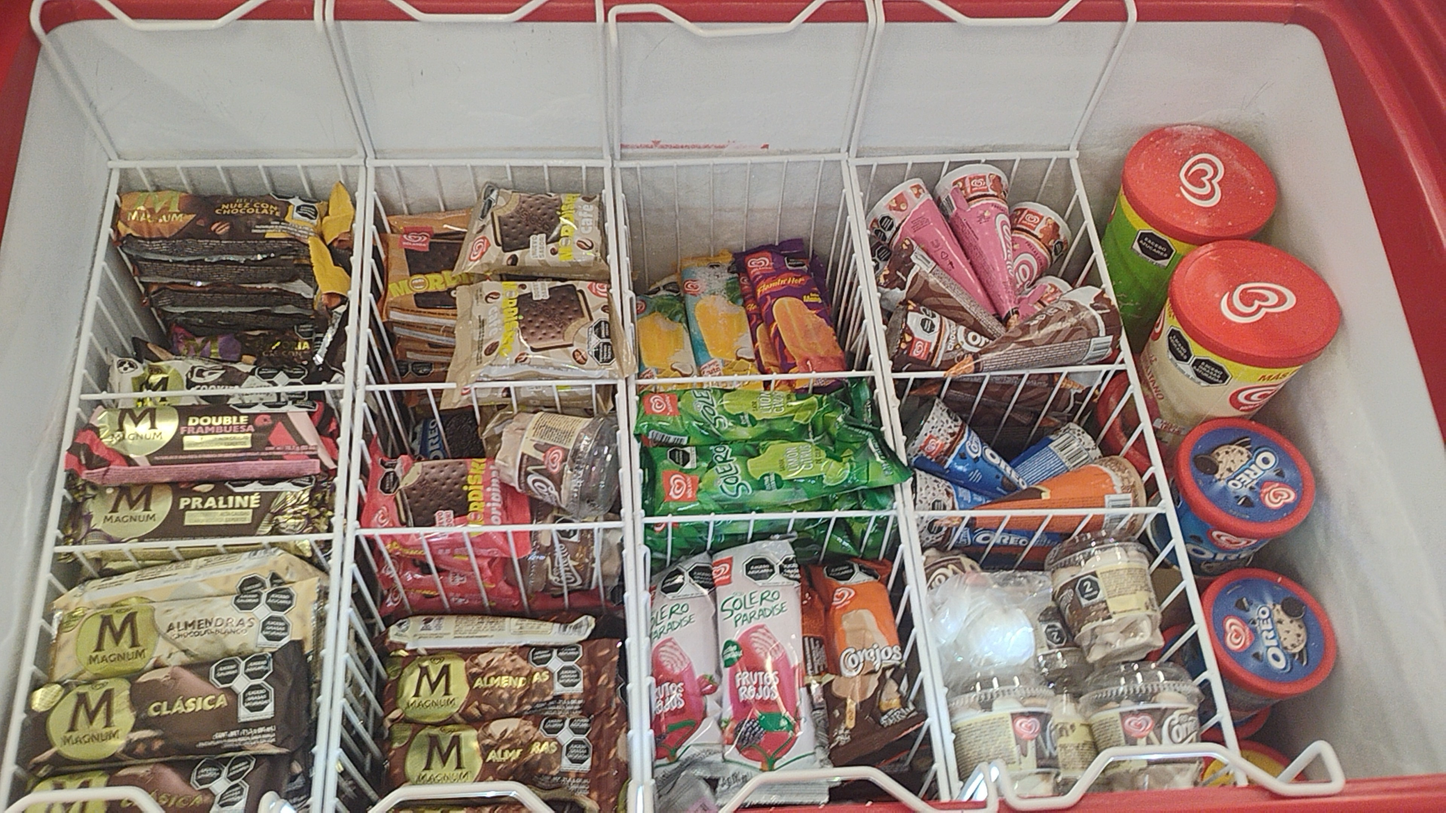rejilla: (0, 168, 120, 812), (1121, 331, 1241, 756), (310, 166, 365, 813), (324, 168, 374, 813), (849, 161, 907, 466), (894, 484, 950, 799), (841, 161, 894, 451), (619, 379, 642, 782), (631, 438, 651, 781), (1070, 158, 1117, 302), (926, 626, 961, 797), (55, 534, 331, 552), (81, 384, 343, 399), (903, 482, 927, 623), (615, 168, 633, 349), (352, 522, 623, 534), (617, 153, 847, 166), (848, 151, 1076, 164), (641, 511, 897, 522), (604, 168, 622, 319), (635, 372, 875, 383), (915, 507, 1165, 515), (111, 160, 364, 167), (966, 365, 1126, 376), (368, 160, 611, 166), (474, 380, 617, 387), (361, 383, 456, 391), (628, 375, 637, 433), (891, 372, 946, 377)
